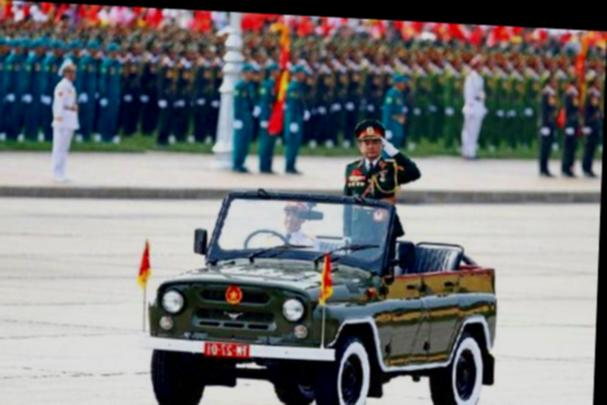License_Plate: (200, 339, 249, 360)
